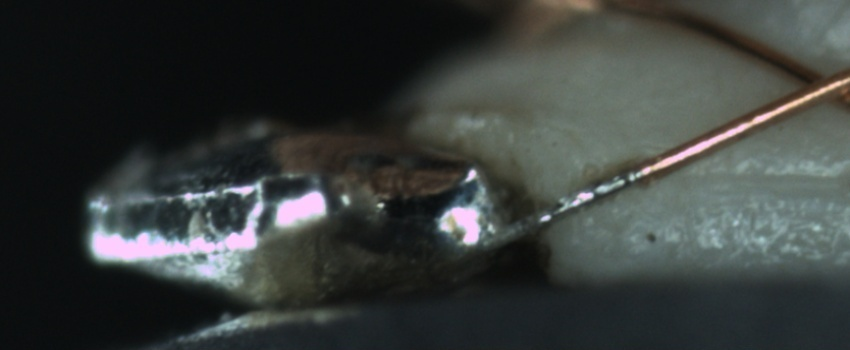CL: (766, 50, 849, 118)
DL: (671, 146, 849, 212)
TS: (480, 166, 642, 248)
